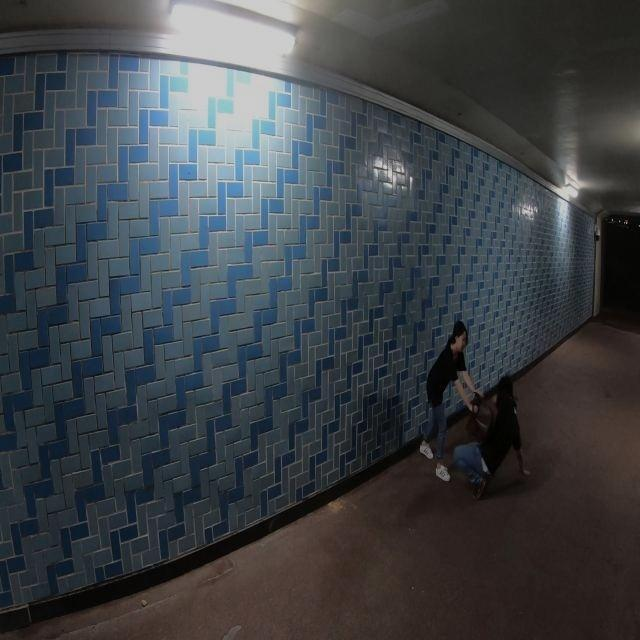fight: (420, 317, 529, 499)
